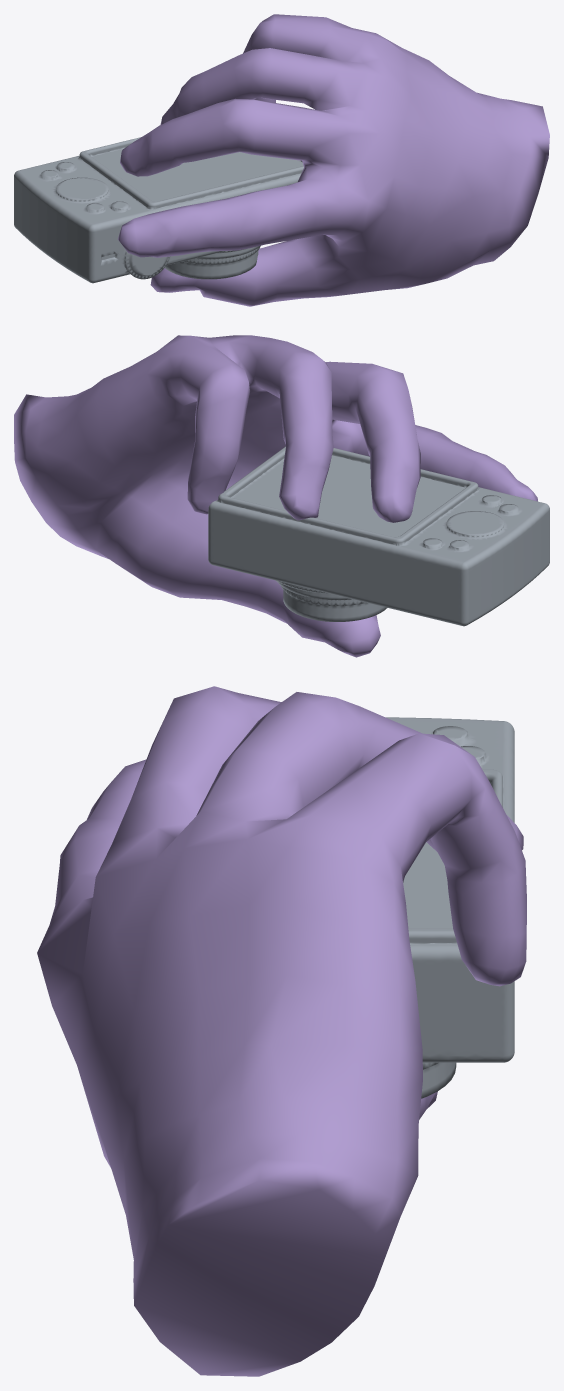
The model's file is ours_0.glb.
3 views of the same model, one above another, from view 1: azimuth 30°, elevation 25°; view 2: azimuth 150°, elevation 25°; view 3: azimuth 270°, elevation 25° (orthographic). The views are drawn at different scales.
Size of the model in its own units: 0.2243 by 0.1158 by 0.101.
